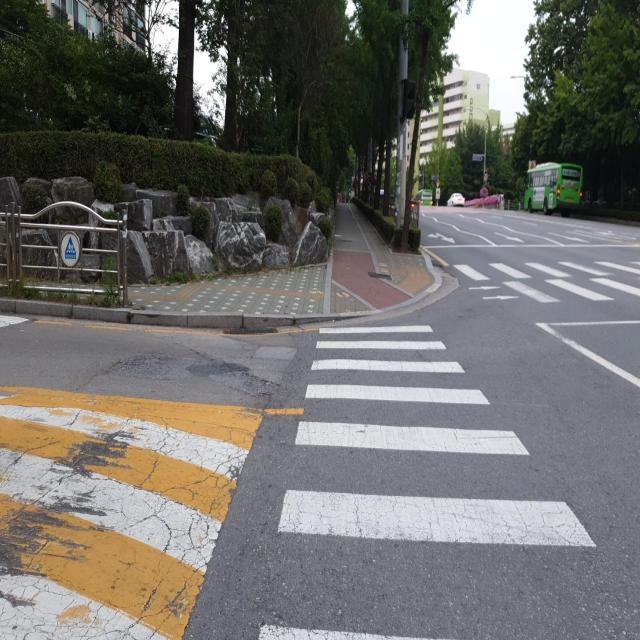횡단보도: (256, 320, 598, 640), (448, 259, 640, 311)
